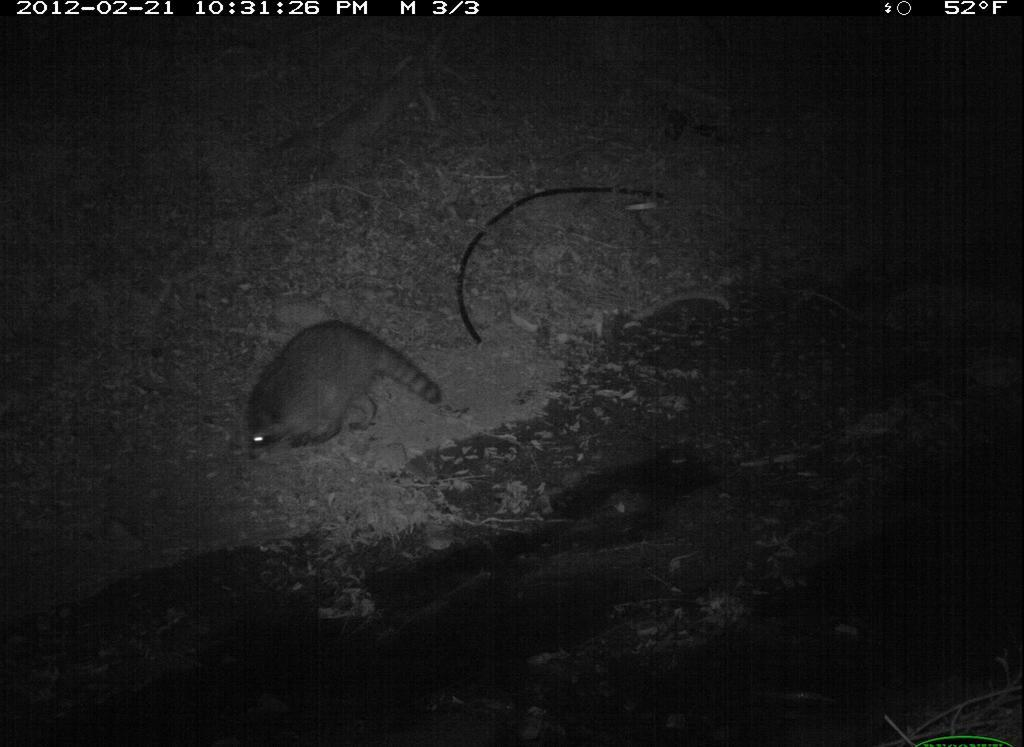raccoon: (231, 315, 454, 464)
